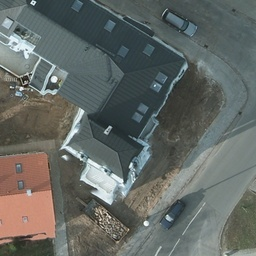car: (161, 9, 197, 38), (161, 198, 187, 226)
